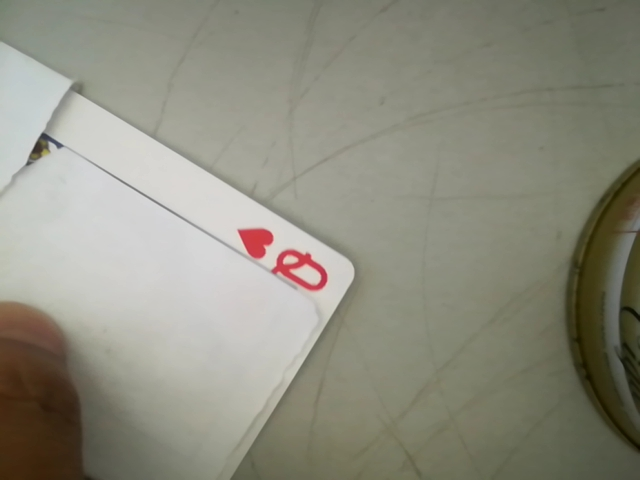hx q: (228, 222, 346, 299)
